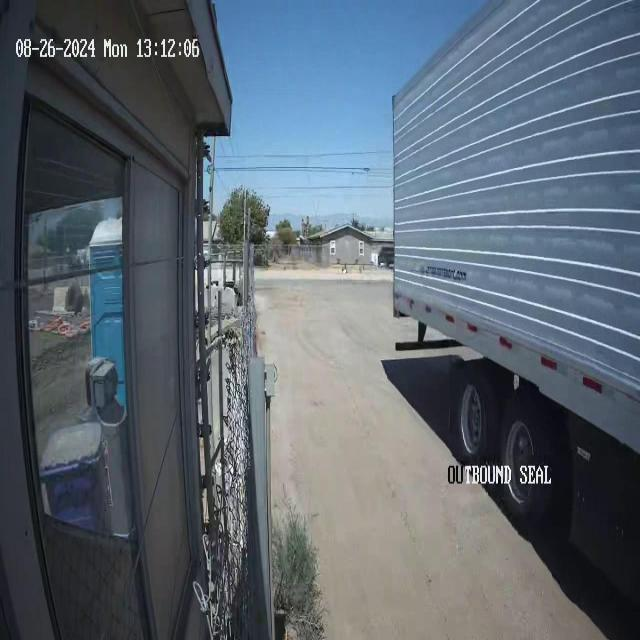TRUCK_IN: (389, 1, 639, 602)
